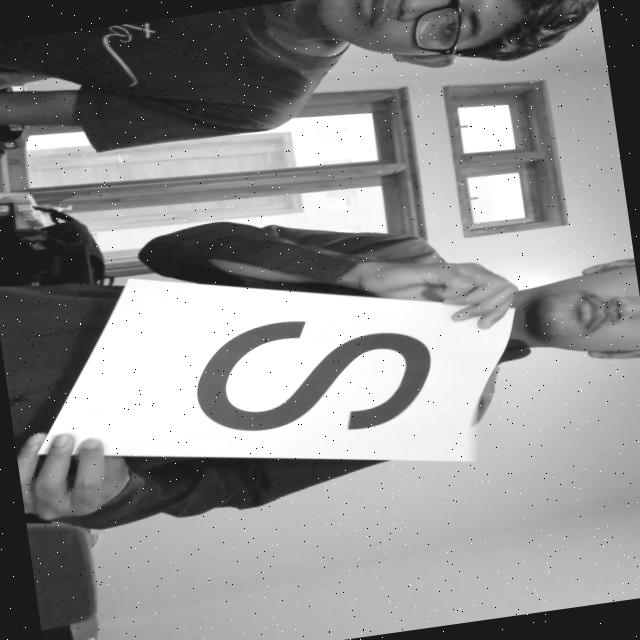s: (176, 289, 456, 472)
